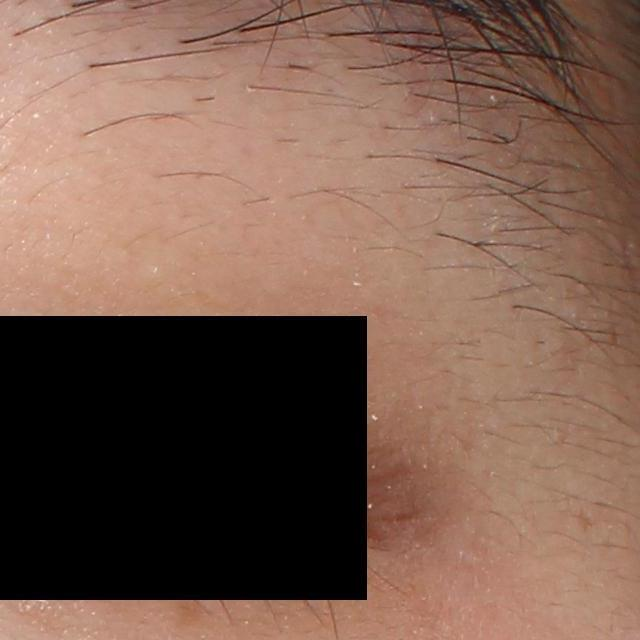melasma: (170, 591, 216, 627)
